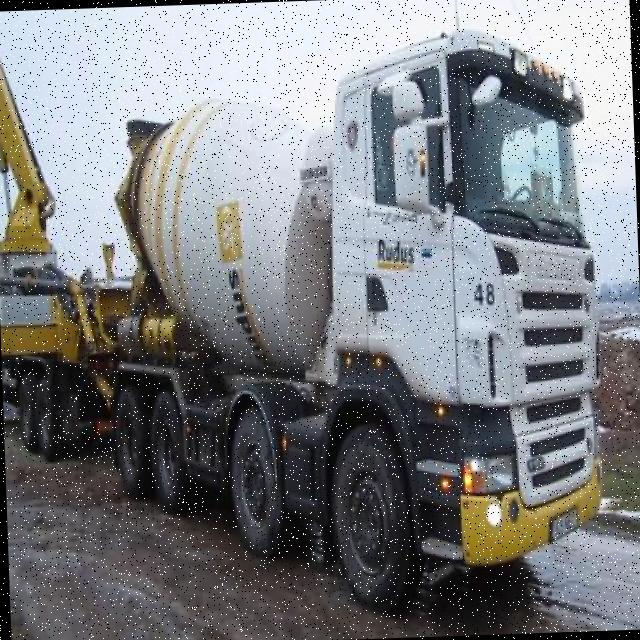Mobile Crane: (0, 8, 111, 458)
